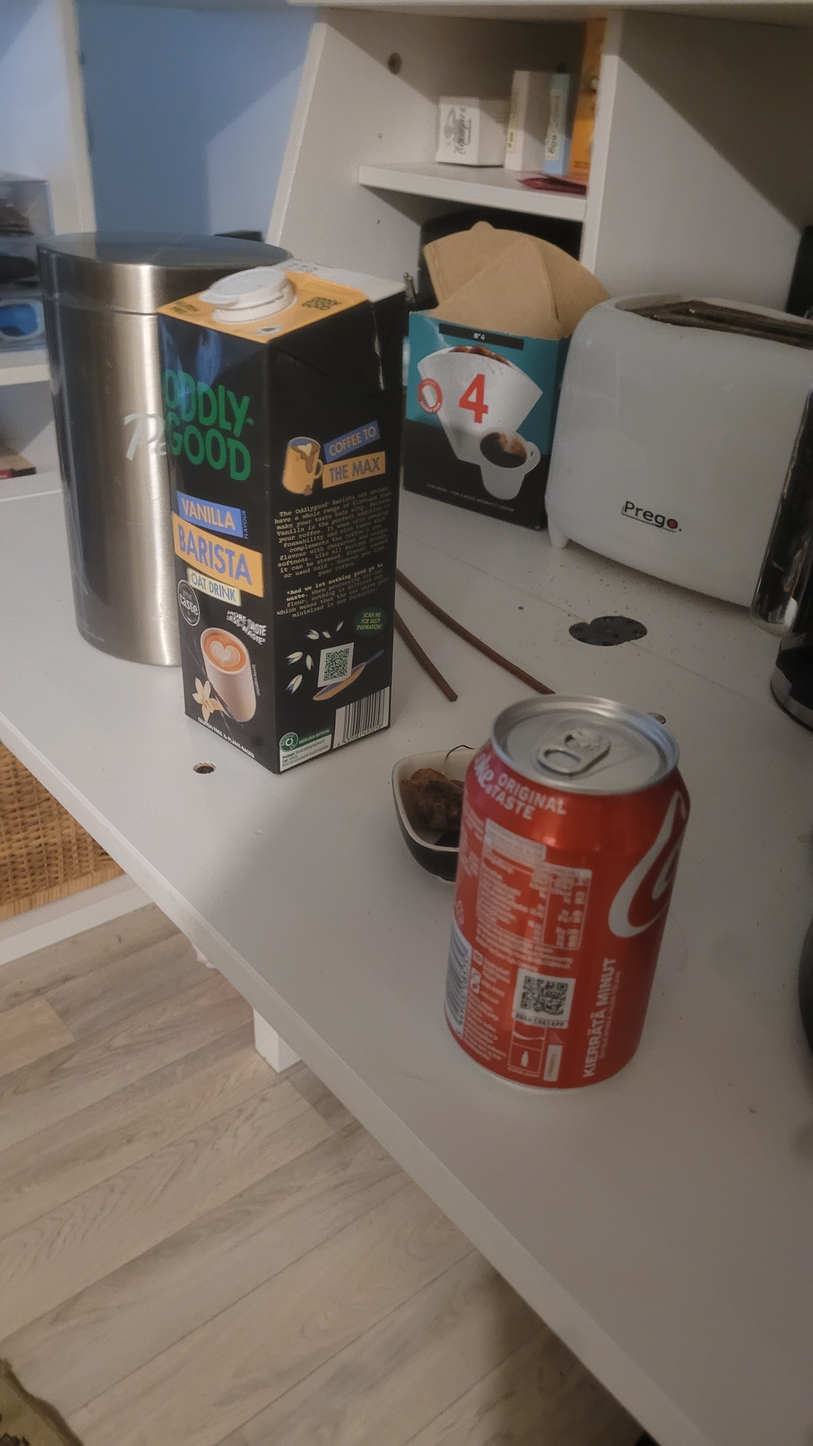Dryckeskartong: (155, 258, 407, 774)
Pantburk: (440, 693, 690, 1091)
